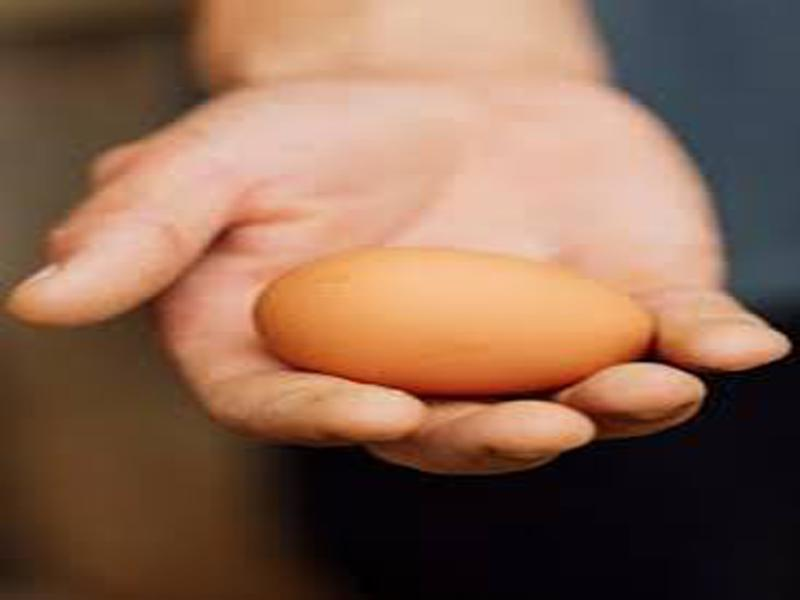Eggs: (258, 249, 656, 391)
